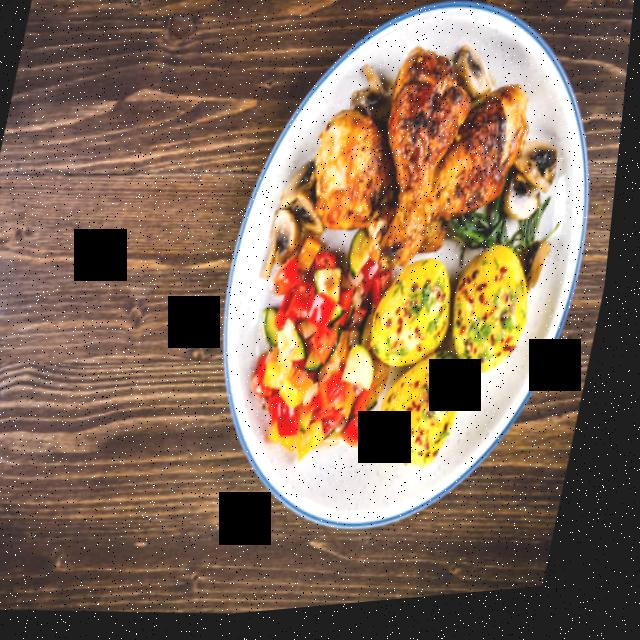Frango: (297, 36, 549, 302)
